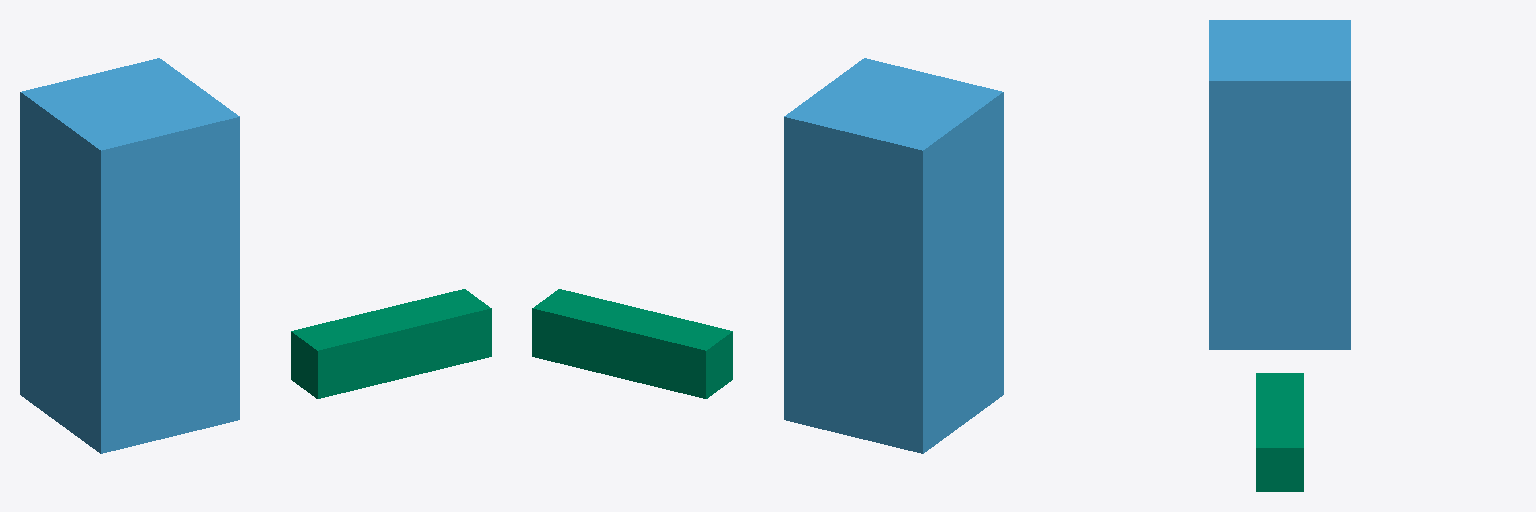
URDF robot description (prismatic_lift):
<?xml version="1.0"?>
<robot name="prismatic_lift">
  <link name="base_link"/>
  <link name="lift_link">
    <visual>
      <origin xyz="0 0 0.125" rpy="0 0 0"/>
      <geometry><box size="0.12 0.12 0.25"/></geometry>
    </visual>
  </link>
  <link name="tip_link">
    <visual>
      <origin xyz="0.075 0 0" rpy="0 0 0"/>
      <geometry><box size="0.15 0.04 0.04"/></geometry>
    </visual>
  </link>
  <joint name="lift" type="prismatic">
    <parent link="base_link"/>
    <child link="lift_link"/>
    <origin xyz="0 0 0" rpy="0 0 0"/>
    <axis xyz="0 0 1"/>
    <limit lower="0" upper="0.5" velocity="0.5"/>
  </joint>
  <joint name="joint1" type="revolute">
    <parent link="lift_link"/>
    <child link="tip_link"/>
    <origin xyz="0.15 0 0" rpy="0 0 0"/>
    <axis xyz="0 0 1"/>
    <limit lower="-3.14159" upper="3.14159" velocity="1"/>
  </joint>
</robot>

--- Facts derived from the render (not from the file) ---
Views: 3 orthographic renders of the robot side by side, from view 1: azimuth 30°, elevation 25°; view 2: azimuth 150°, elevation 25°; view 3: azimuth 270°, elevation 25°.
Model prismatic_lift with 3 links and 2 joints (1 revolute, 1 prismatic), rooted at base_link, posed every joint at zero.
Links seen in each view (by area): view 1: lift_link, tip_link; view 2: lift_link, tip_link; view 3: lift_link, tip_link.
Link boxes in pixels (x1,y1,x2,y2): lift_link: (20, 58, 239, 453); tip_link: (291, 289, 491, 398); lift_link: (784, 58, 1003, 453); tip_link: (532, 289, 732, 398); lift_link: (1209, 20, 1350, 349); tip_link: (1256, 373, 1303, 491).
Bounding box of the posed robot: 0.36 × 0.12 × 0.27 m (x, y, z).
Geometry: primitives only (box / cylinder / sphere), no mesh files.
